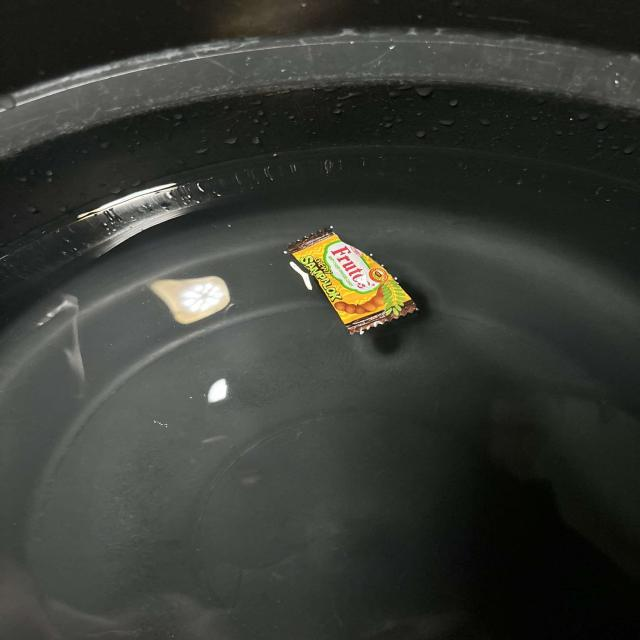Plastic Wrapper: (253, 221, 450, 369)
